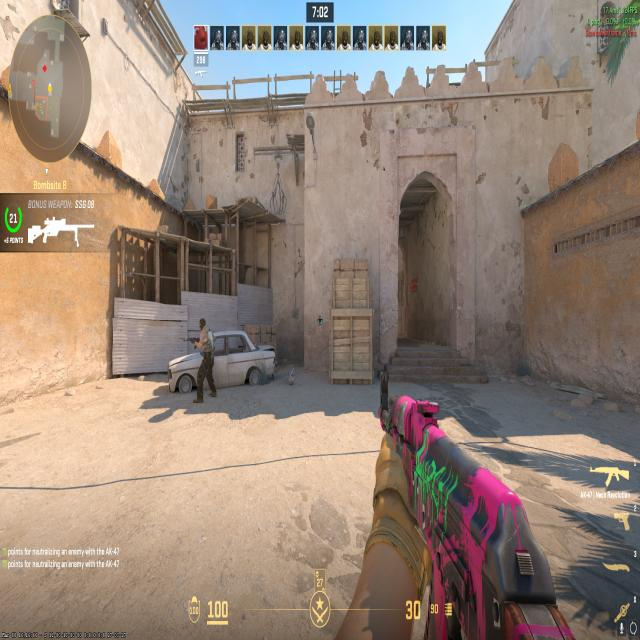t: (192, 316, 218, 408)
